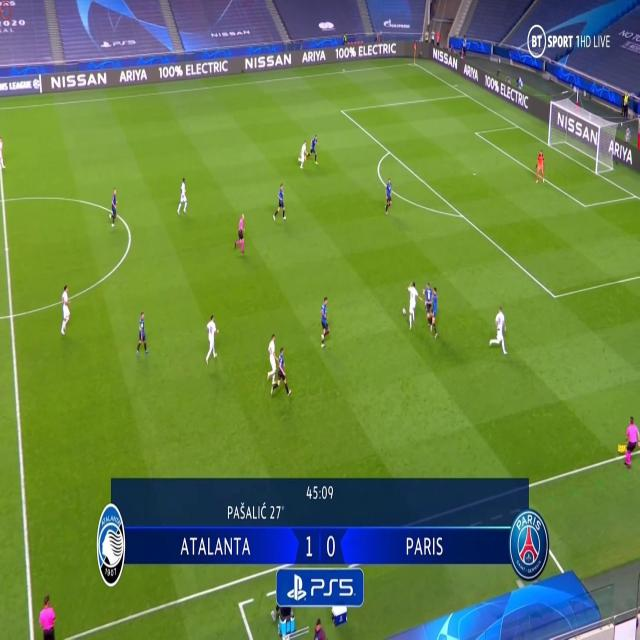ball: (401, 304, 406, 315)
player: (619, 413, 639, 469), (490, 302, 508, 354), (273, 346, 291, 397), (404, 277, 420, 326), (58, 280, 72, 334), (204, 312, 219, 362), (318, 294, 332, 347), (422, 280, 436, 332), (266, 329, 278, 389), (134, 309, 149, 356), (272, 181, 287, 222), (176, 175, 190, 217), (233, 212, 246, 251), (534, 147, 545, 185), (296, 136, 308, 170), (109, 187, 119, 226), (308, 133, 320, 165), (384, 176, 393, 213), (621, 90, 629, 118)
